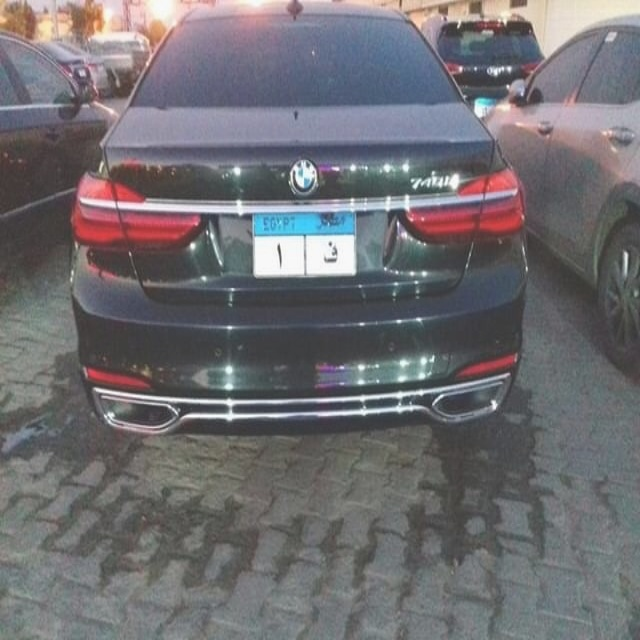License Plate: (250, 207, 360, 281)
